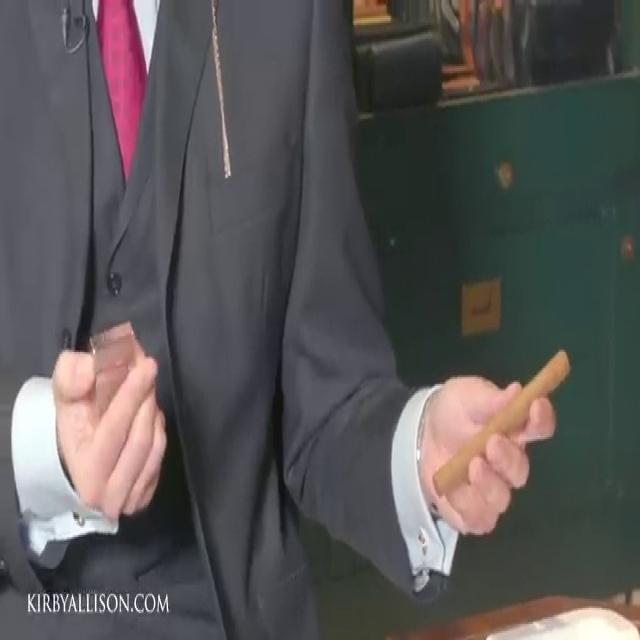Smooking: (432, 298, 573, 551)
